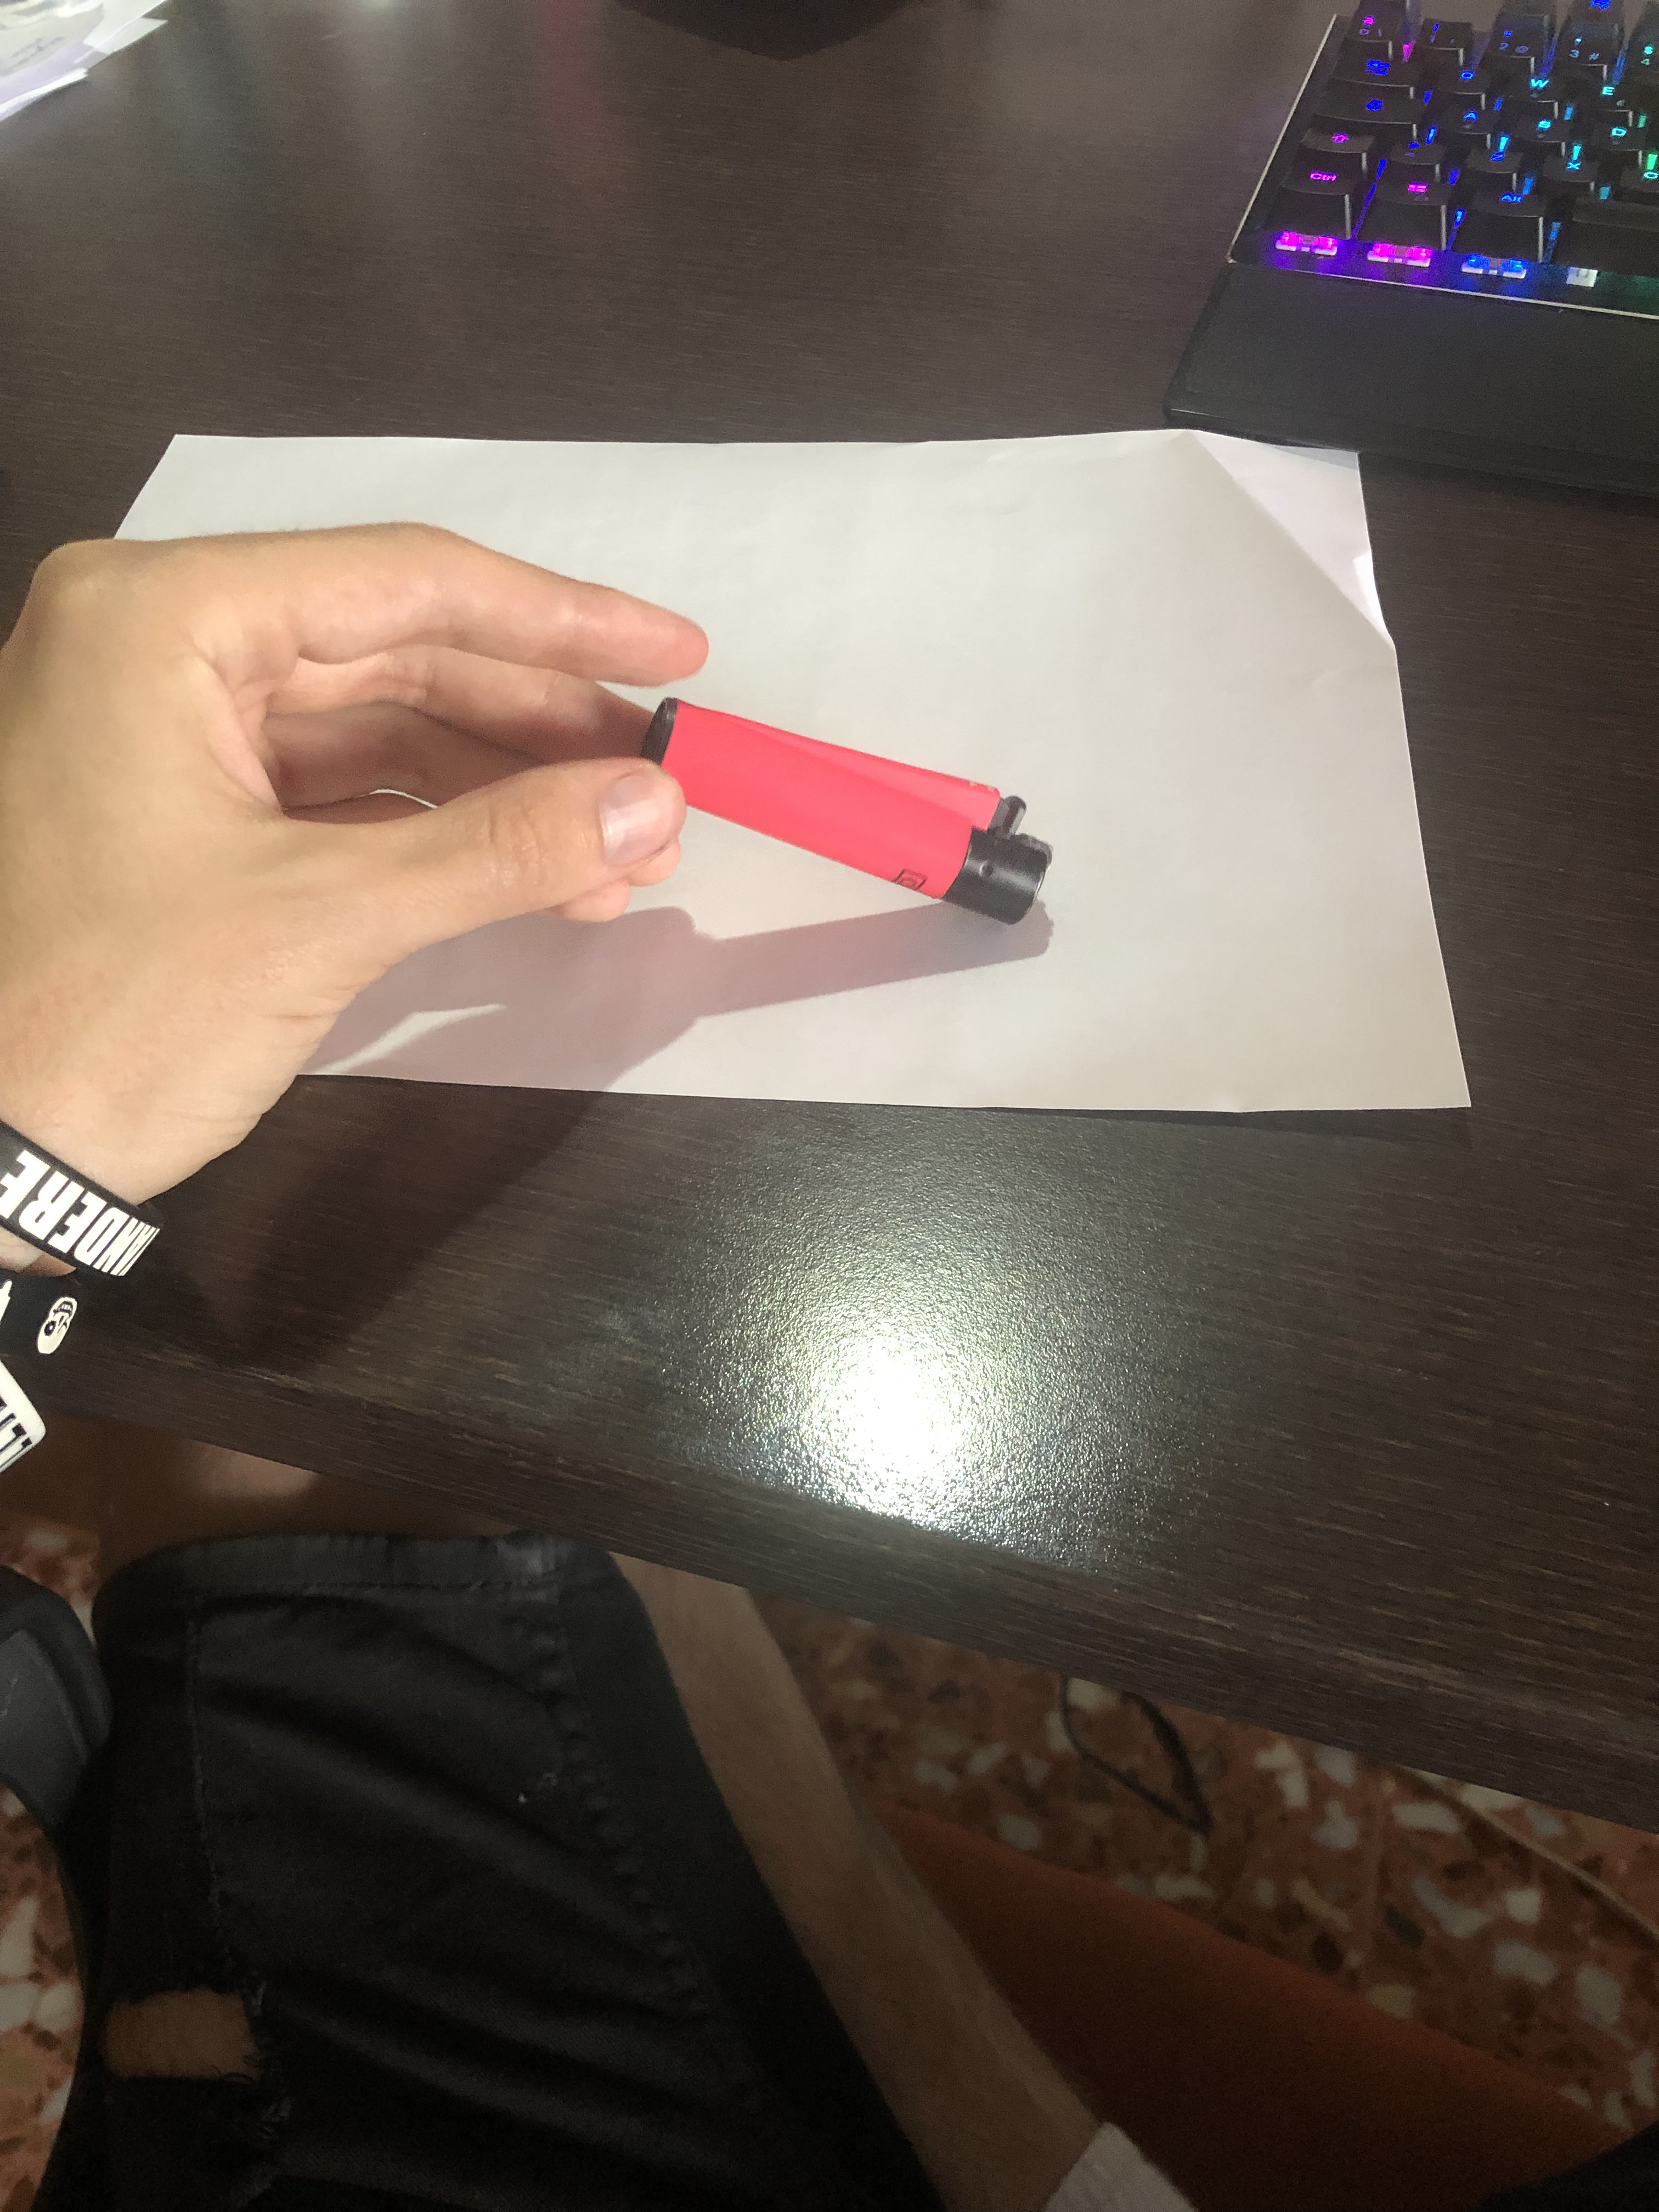Mechero: (634, 676, 1070, 948)
